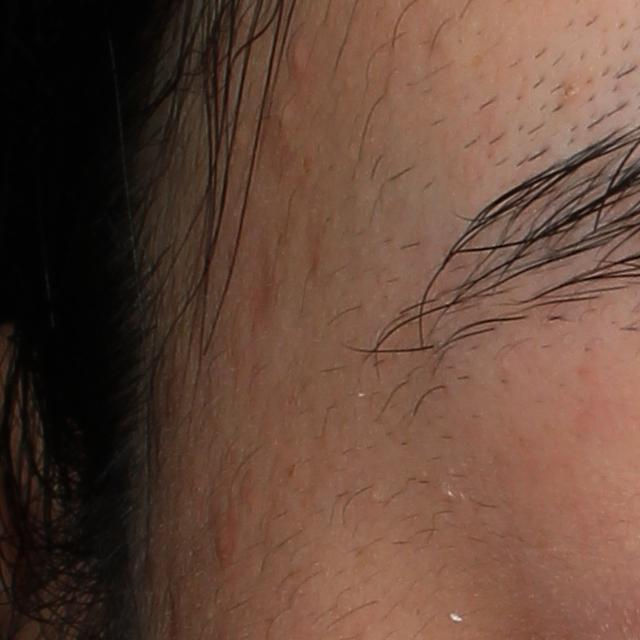papule: (280, 36, 319, 82), (209, 523, 243, 567)
